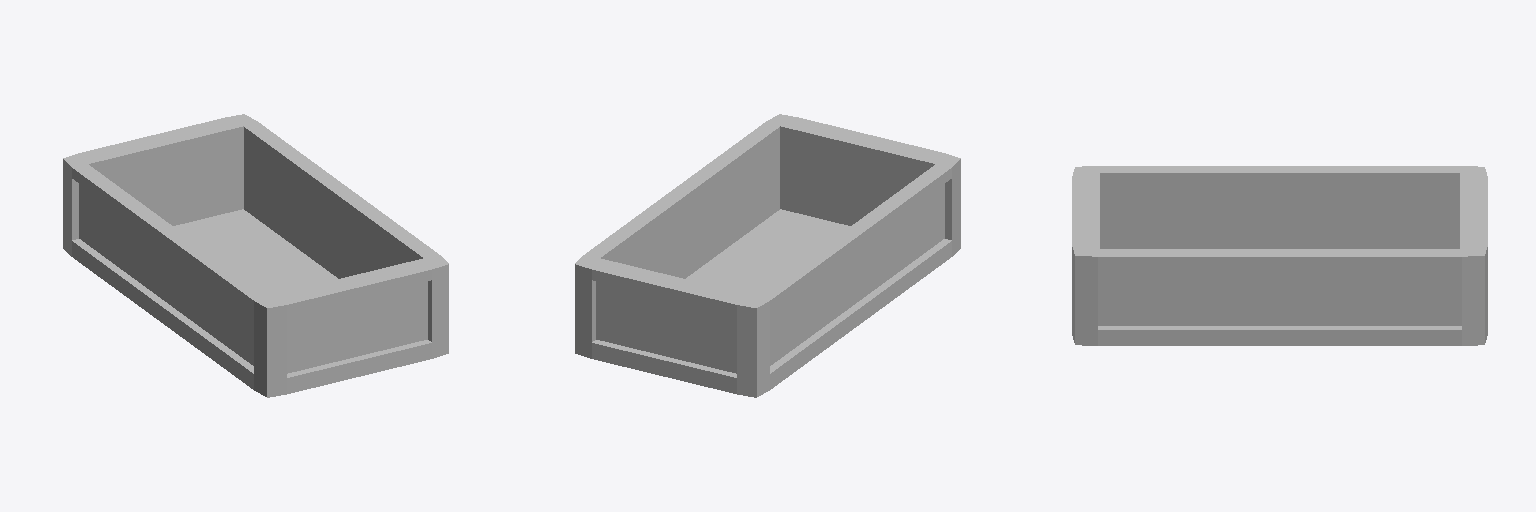
Rendered from Chest.obj.
3 views of the same model, side by side, from view 1: azimuth 30°, elevation 25°; view 2: azimuth 150°, elevation 25°; view 3: azimuth 270°, elevation 25° (orthographic).
Visible parts, largest first — view 1: Cube.001; view 2: Cube.001; view 3: Cube.001.
Part boxes in pixels (x1,y1,x2,y2): Cube.001: (63, 114, 448, 397); Cube.001: (575, 114, 960, 397); Cube.001: (1072, 166, 1487, 345).
Size of the model in its own units: 2.18 by 0.9998 by 4.2.